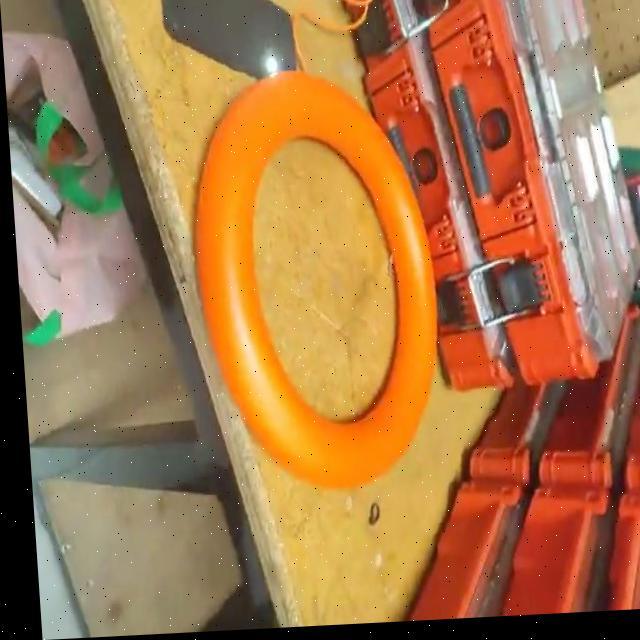note: (178, 65, 447, 505)
